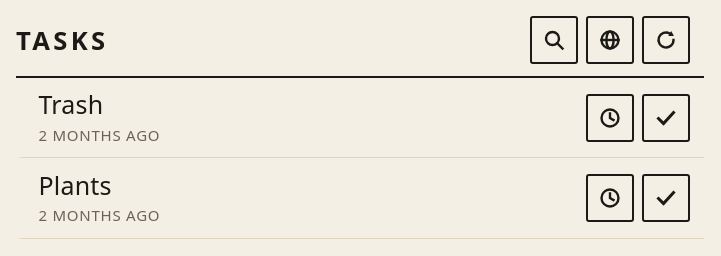
Test case: App › public filter › hides private chores once it is on
Check: the text "Plants" is shown, box top-left (38, 168), bottom-right (112, 202)
Click the button named "public" at [610, 40], box top-left (586, 16), bottom-right (634, 64)
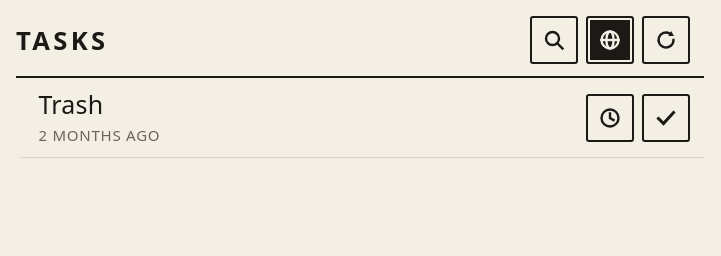
Check: the text "Trash" is shown, box top-left (38, 87), bottom-right (104, 121)
Check: the text "Plants" is gone
